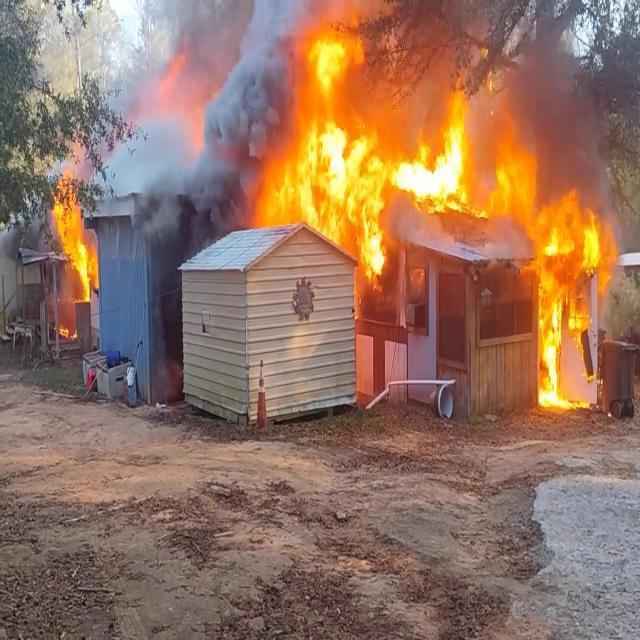Fire: (245, 5, 529, 274), (246, 10, 390, 274), (524, 178, 616, 412), (49, 147, 101, 305)
Smoke: (100, 0, 303, 215)
